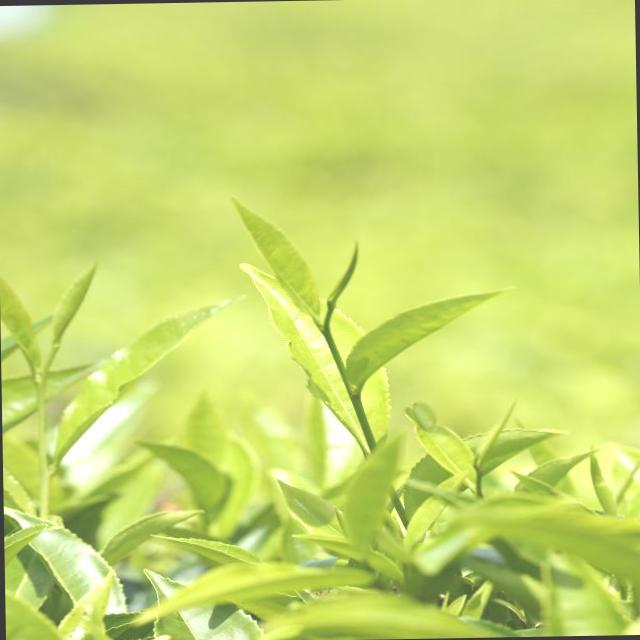Stem: (322, 330, 338, 354), (35, 385, 45, 416), (477, 477, 482, 489)
